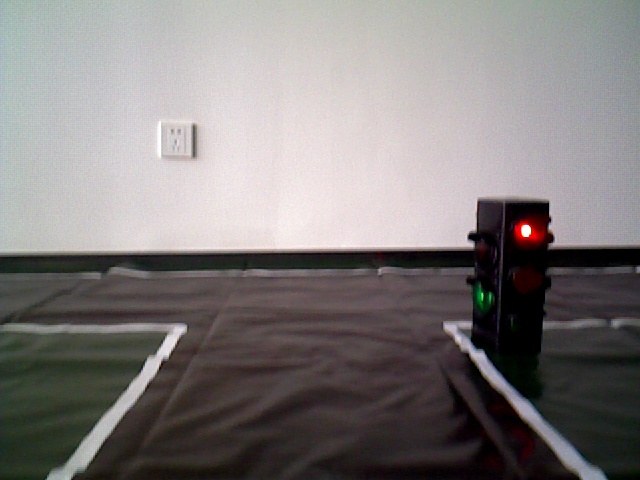red: (476, 196, 544, 356)
